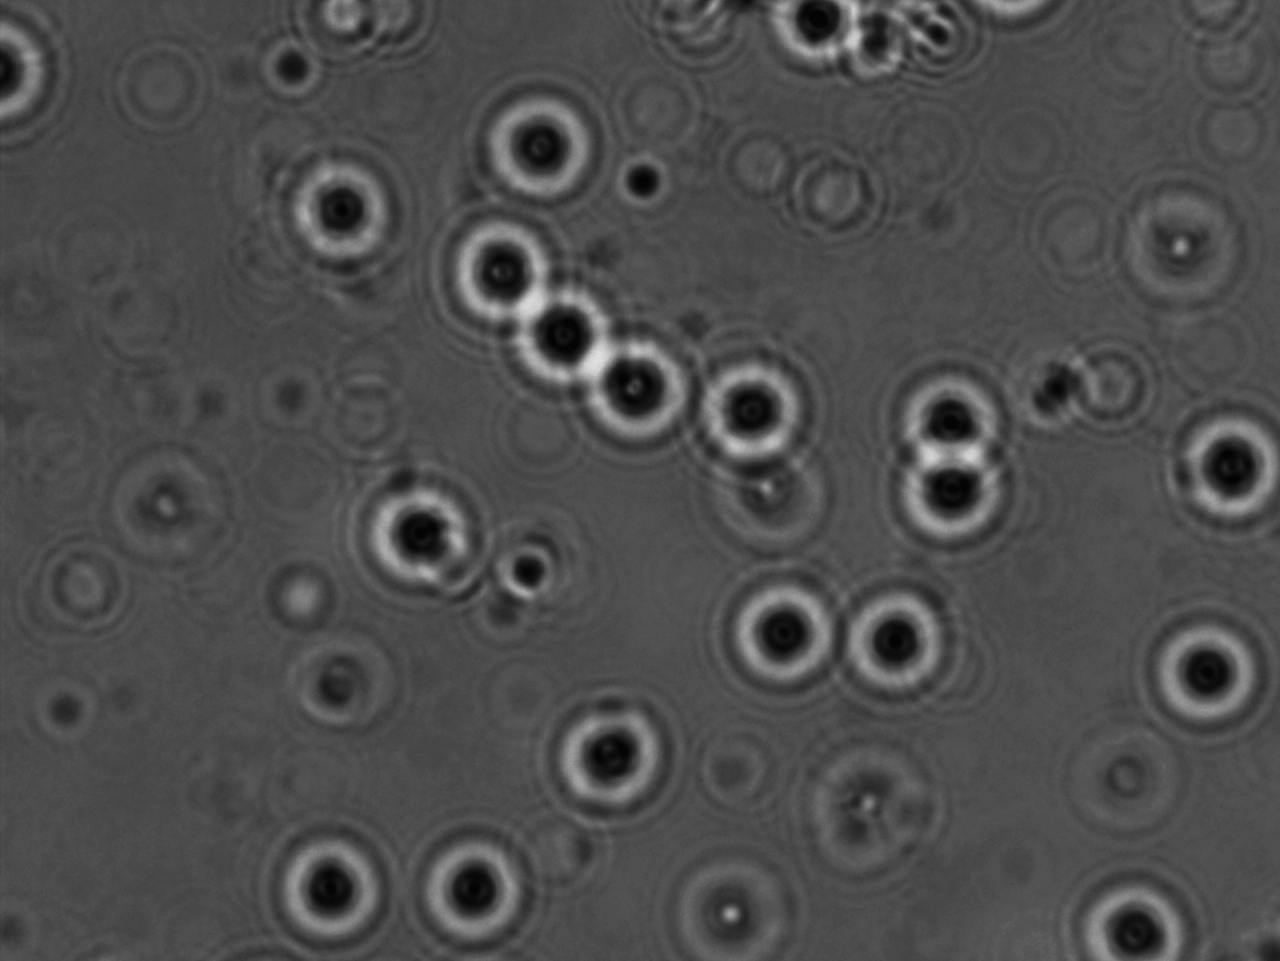depth:-16: (269, 141, 418, 291), (351, 462, 500, 603), (258, 813, 398, 959), (694, 337, 831, 485), (877, 426, 1024, 556), (1123, 600, 1265, 732), (823, 581, 963, 715), (714, 566, 849, 702), (1152, 398, 1280, 537), (542, 690, 681, 817), (575, 319, 705, 452), (1050, 856, 1206, 961), (467, 79, 599, 202), (403, 820, 537, 940), (879, 347, 1002, 472), (441, 212, 559, 340), (497, 276, 613, 401)
